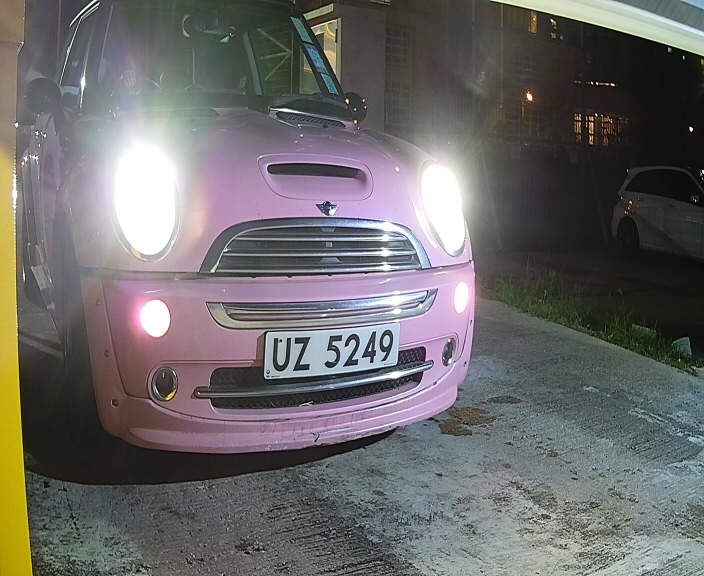Car: (27, 11, 480, 495)
License Plate: (257, 317, 412, 387)
